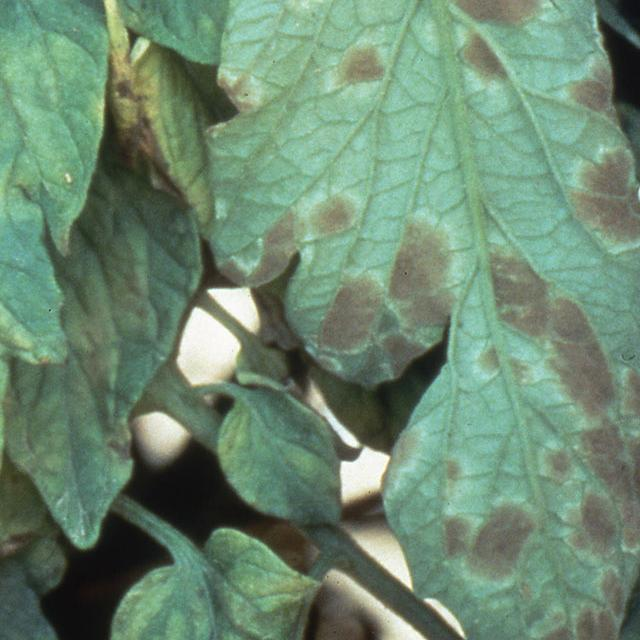Tomato mold leaf: (206, 0, 640, 640), (0, 0, 97, 640), (101, 526, 344, 640)
